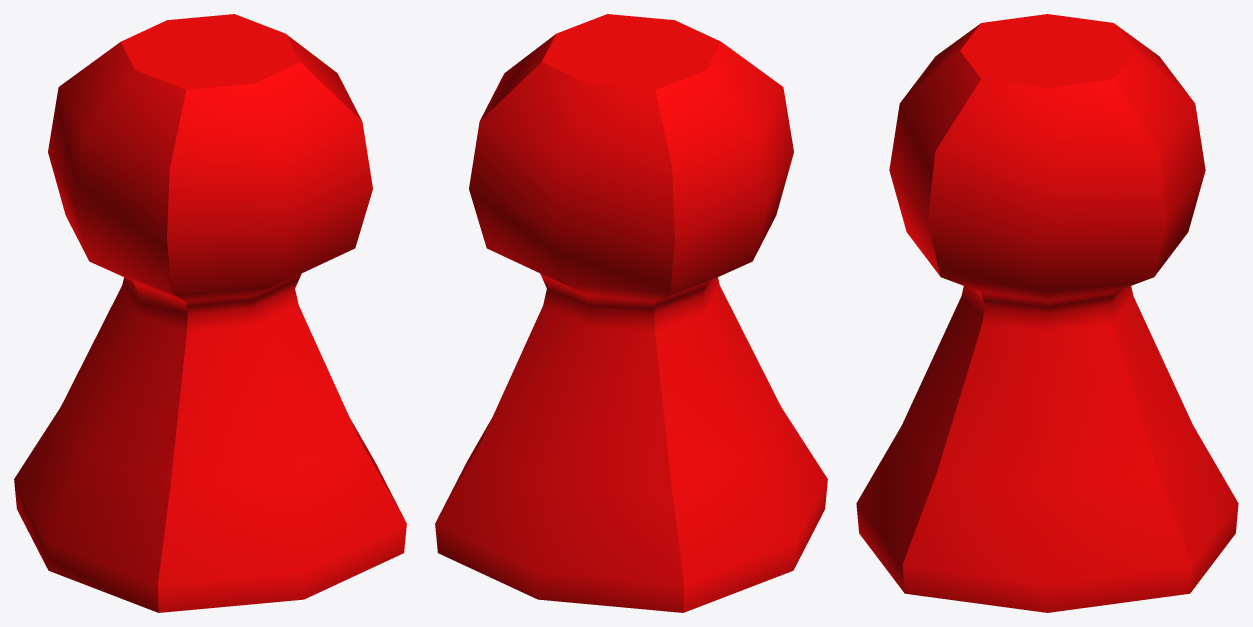
Rendered from lowpolygubbe.obj.
3 views of the same model, side by side, from view 1: azimuth 30°, elevation 25°; view 2: azimuth 150°, elevation 25°; view 3: azimuth 270°, elevation 25° (orthographic).
Parts seen in each view (by area): view 1: pCube2; view 2: pCube2; view 3: pCube2.
Part boxes in pixels (<box>): pCube2: <box>14,14,406,612</box>; pCube2: <box>435,14,827,612</box>; pCube2: <box>856,14,1238,612</box>.
Bounding box in the file's own units: 253 × 356 × 253.
